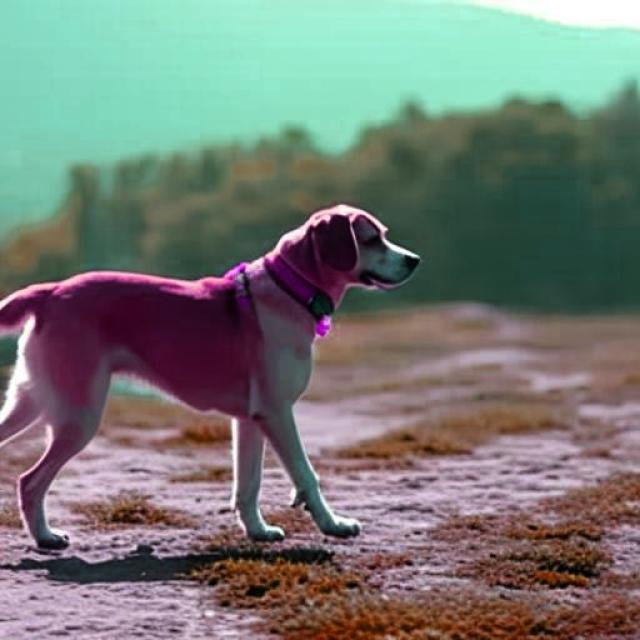Dog: (0, 203, 421, 550)
